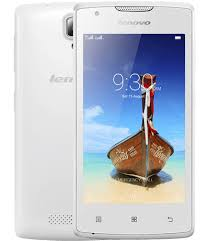lenovo: (71, 1, 196, 238)
